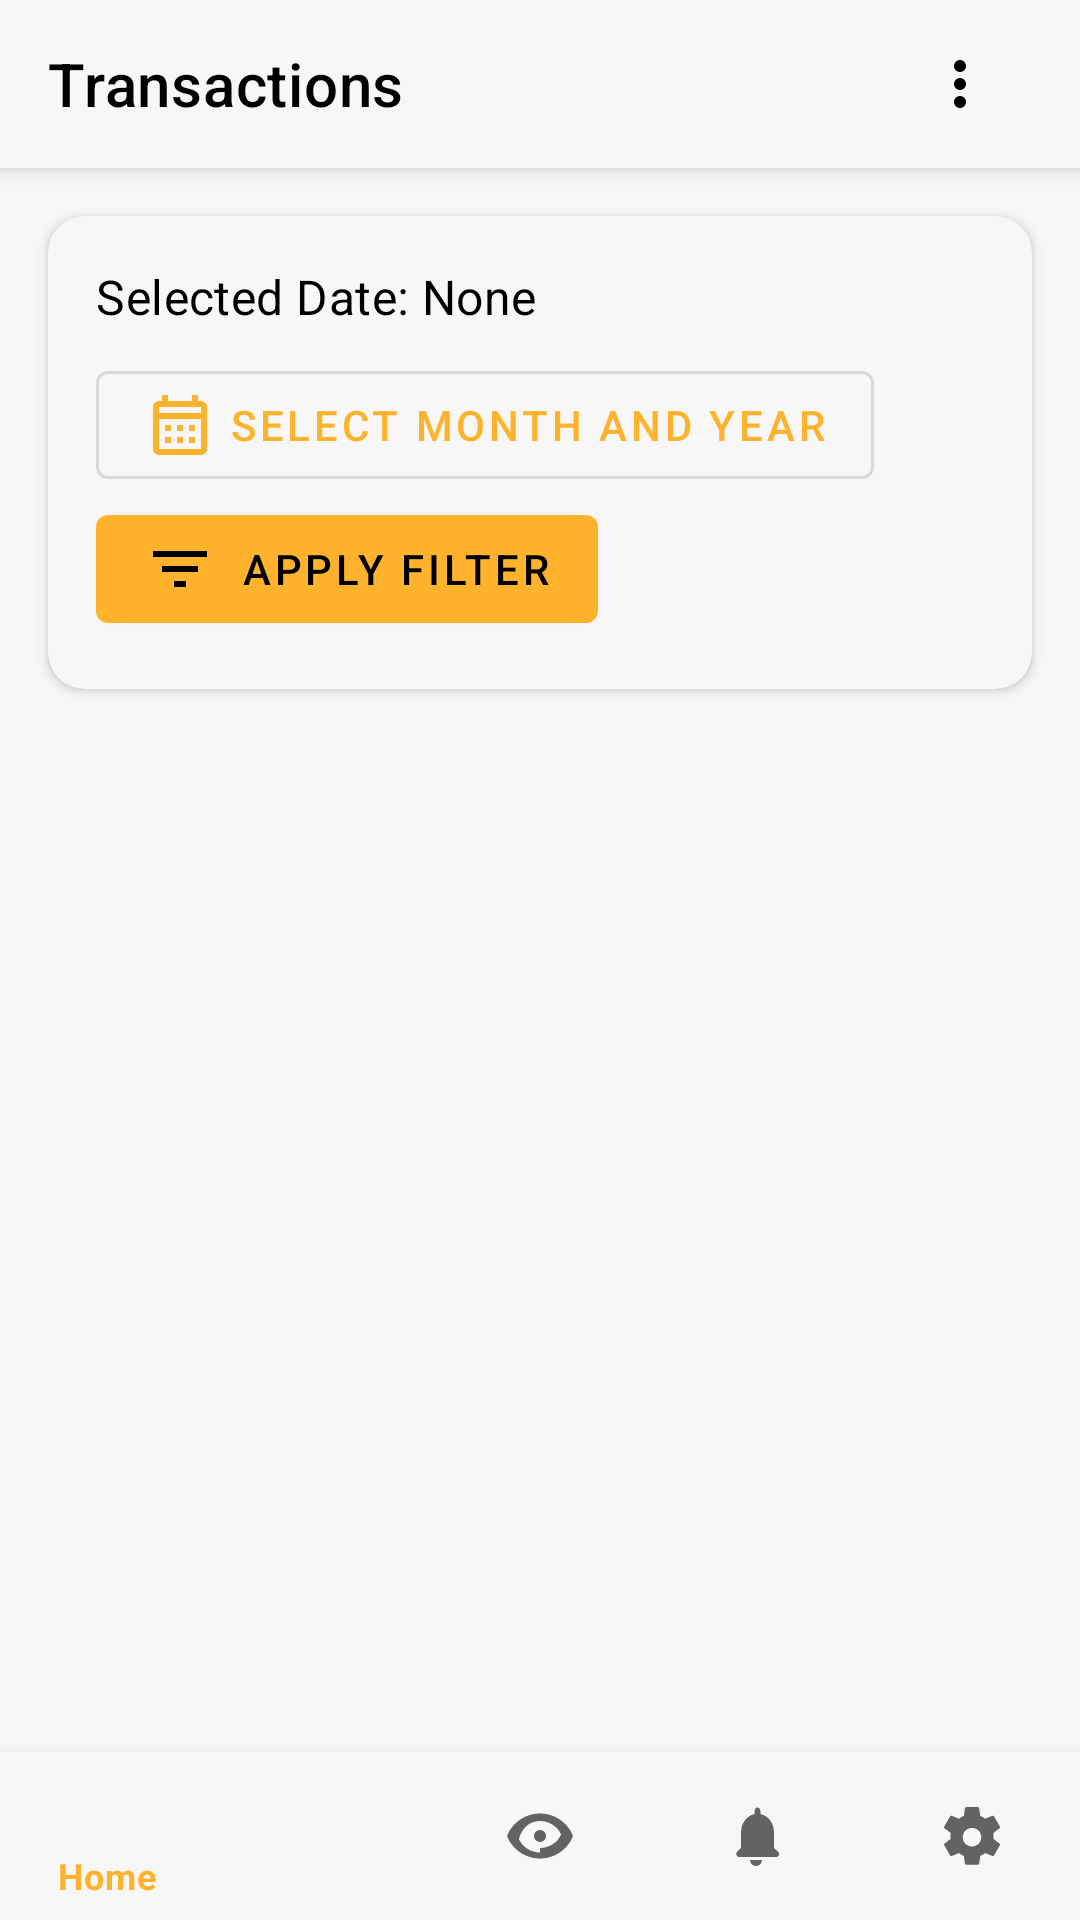

Screen size 1080px x 1920px. Icon name, then its center in pixels as point (x, y):
more: point (960, 84)
